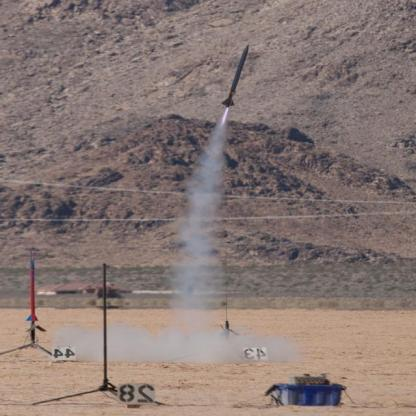MIL_TBM: (221, 43, 251, 108)
